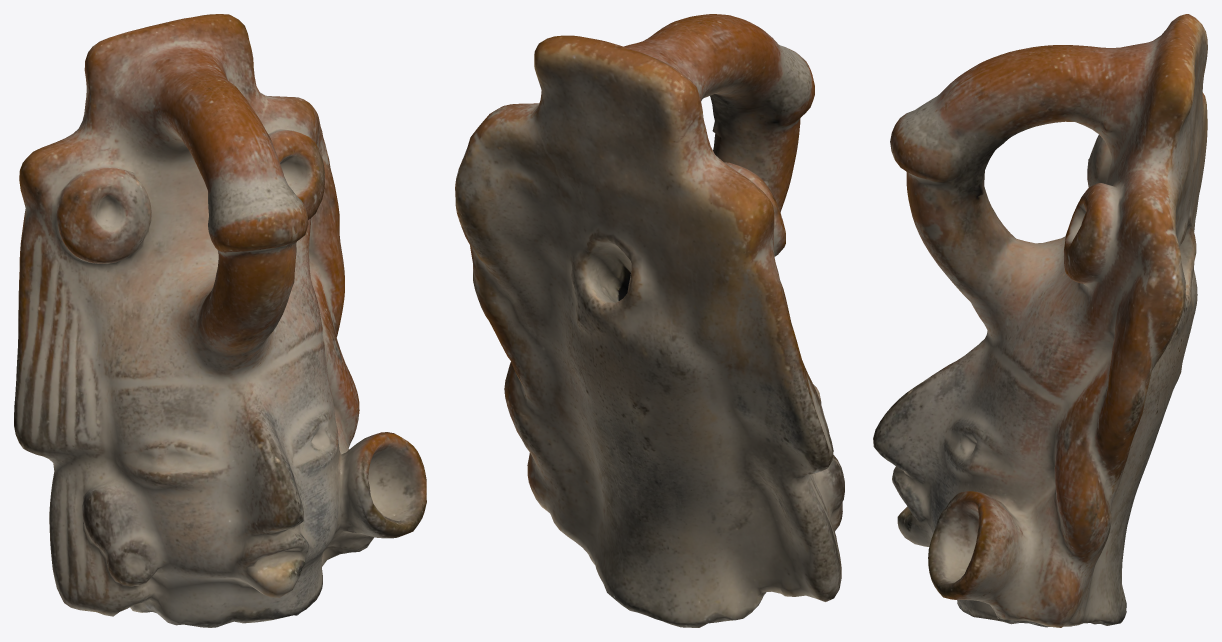
Rendered from cabeza70k.glb.
3 views of the same model, side by side, from view 1: azimuth 30°, elevation 25°; view 2: azimuth 150°, elevation 25°; view 3: azimuth 270°, elevation 25° (orthographic). The views are drawn at different scales.
Parts seen in each view (by area): view 1: cabeza_70k; view 2: cabeza_70k; view 3: cabeza_70k.
Part boxes in pixels (x1,y1,x2,y2): cabeza_70k: (14, 14, 426, 627); cabeza_70k: (455, 14, 844, 627); cabeza_70k: (873, 14, 1207, 627).
Size of the model in its own units: 0.0848 by 0.131 by 0.0684.
Materials: 1 (1 with a texture image).
